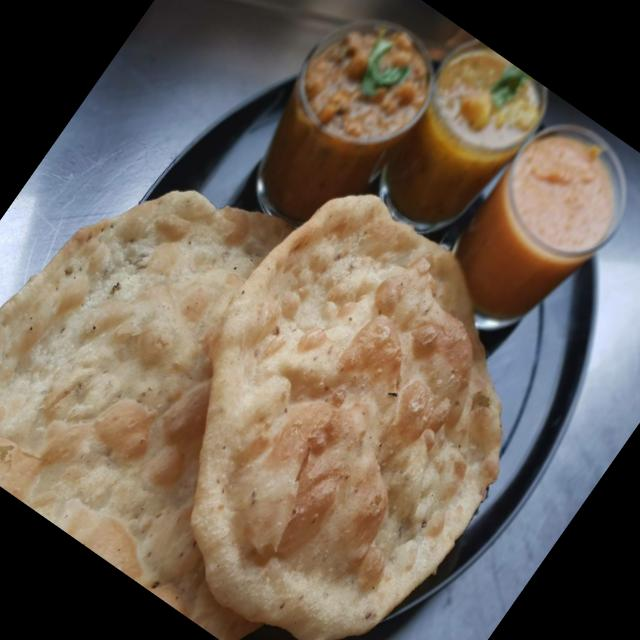Bhatura: (0, 115, 460, 640), (90, 162, 593, 640)
Chole: (284, 0, 449, 162)
